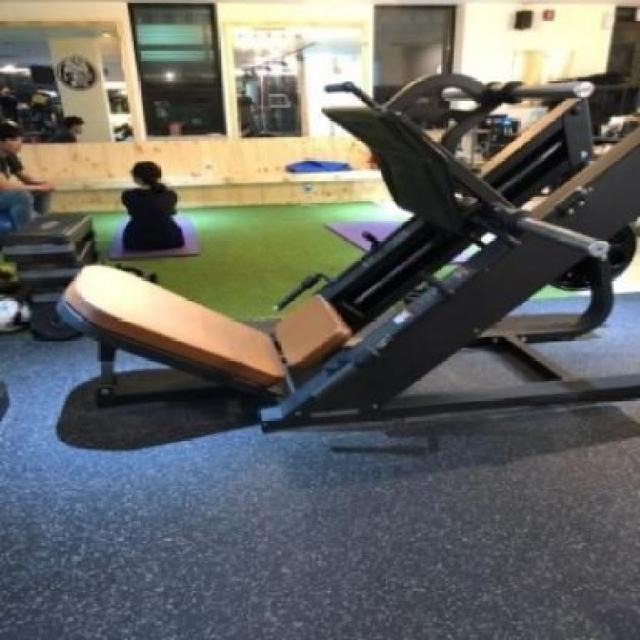leg press: (51, 35, 640, 451)
